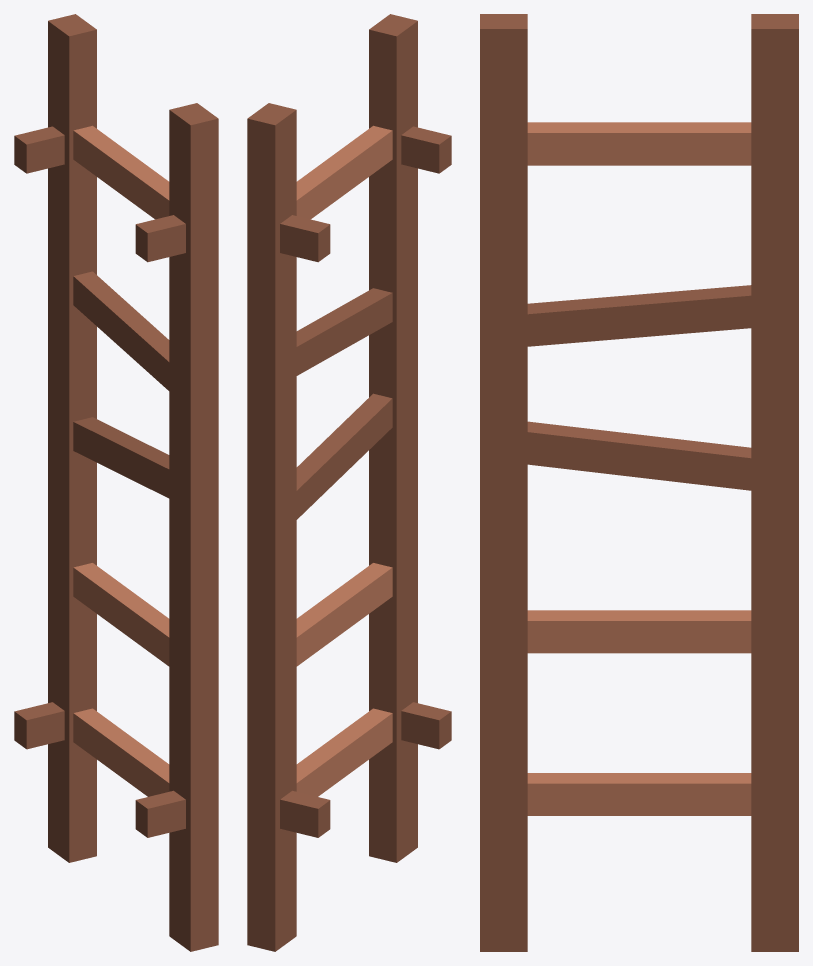
The model's file is Ladder B.glb.
The picture shows the model from 3 angles, left to right: view 1: azimuth 30°, elevation 25°; view 2: azimuth 150°, elevation 25°; view 3: azimuth 270°, elevation 25°; orthographic projection. The views are drawn at different scales.
Parts seen in each view (by area): view 1: Ladder B; view 2: Ladder B; view 3: Ladder B.
Boxes of the visible parts, x1,y1,x2,y2 form: Ladder B: (14, 14, 218, 951); Ladder B: (247, 14, 451, 951); Ladder B: (480, 14, 798, 951).
Size of the model in its own units: 30.49 by 365 by 114.
